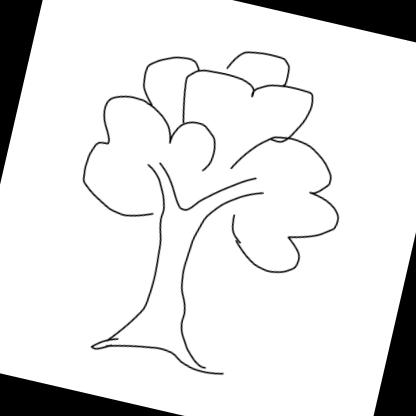branch_line: (136, 154, 268, 233)
crown_cloud: (69, 19, 372, 286)
trunk_straight: (136, 224, 205, 328)
